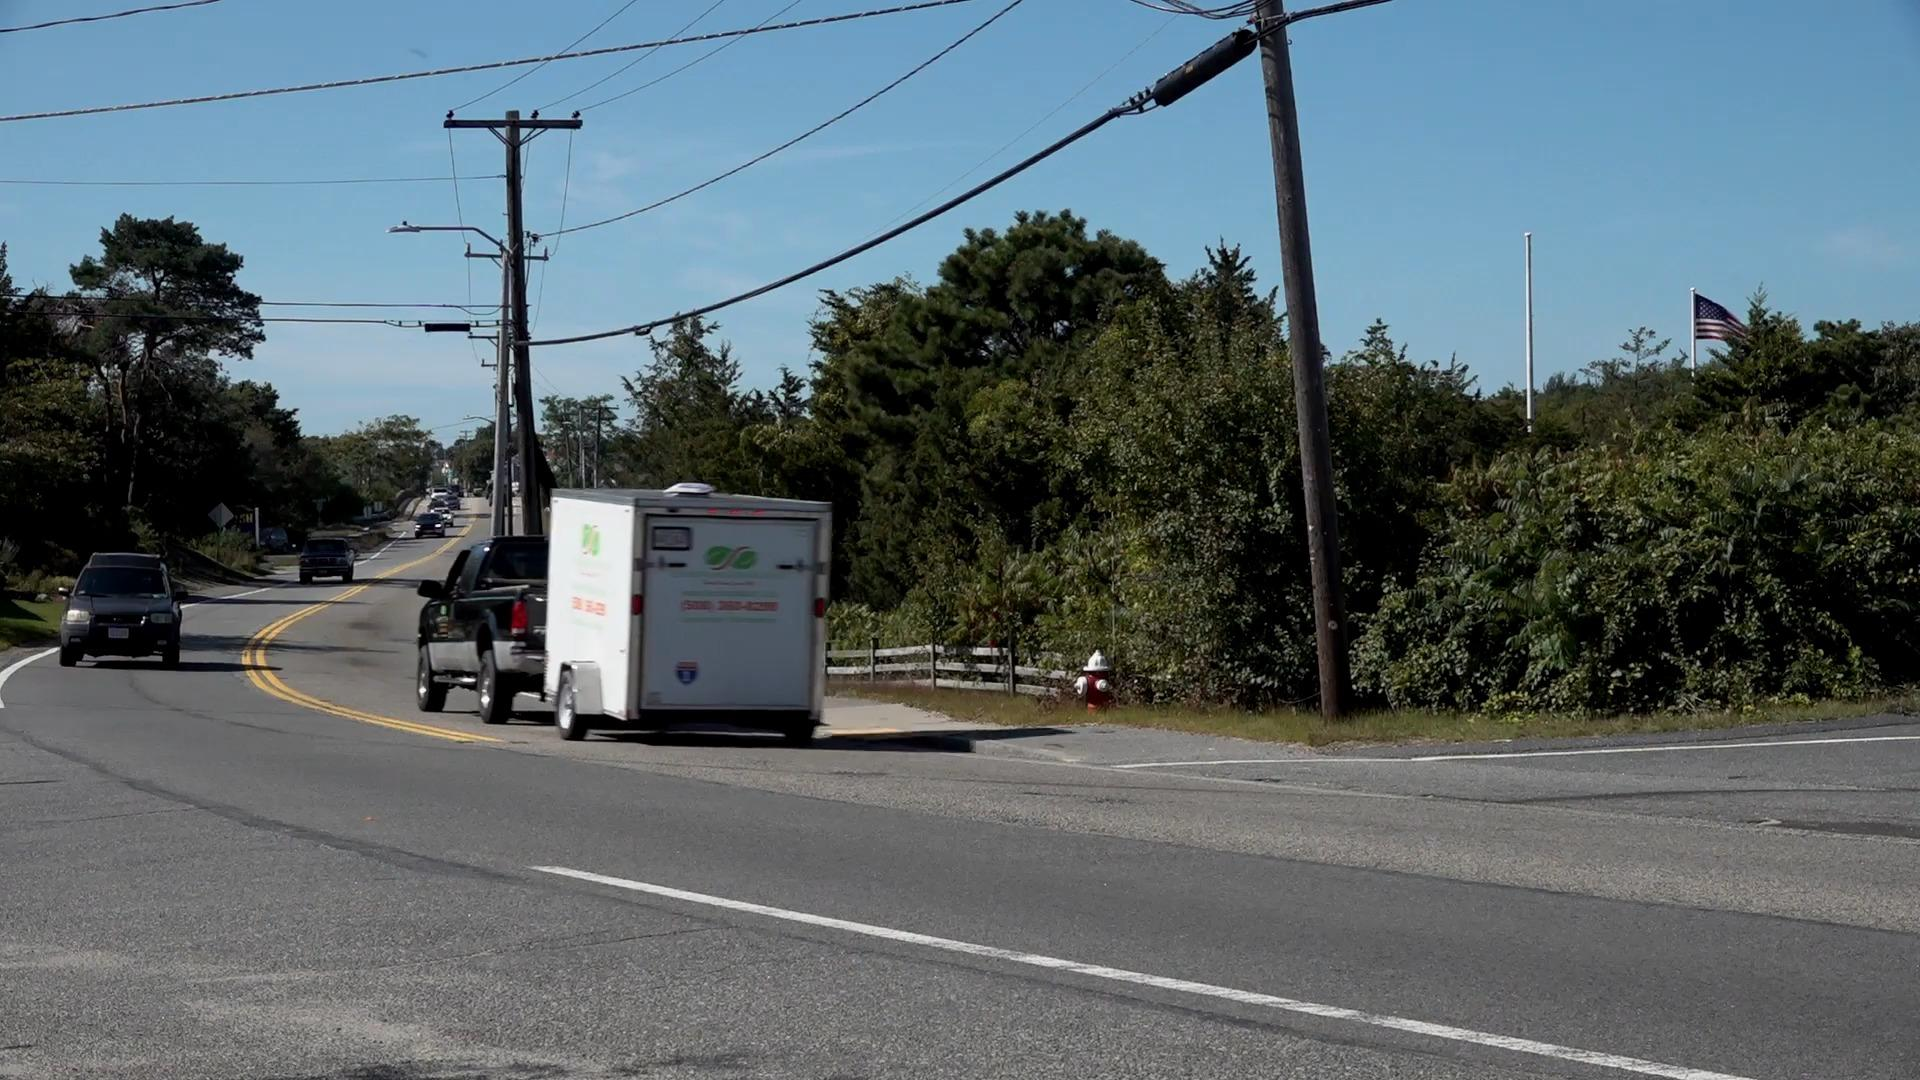pickup: (413, 534, 542, 721)
suv: (63, 549, 185, 670)
